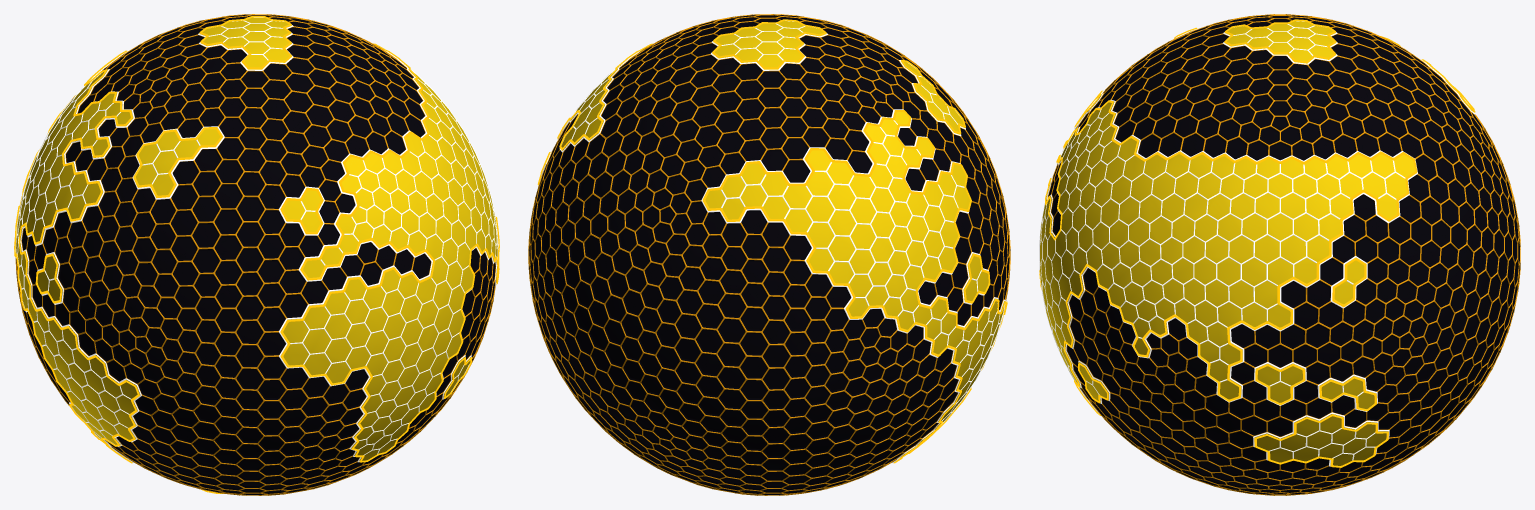
3 renders of one model, left to right at view 1: azimuth 30°, elevation 25°; view 2: azimuth 150°, elevation 25°; view 3: azimuth 270°, elevation 25°, orthographic.
Visible parts, largest first — view 1: Surface_Paint Metallic Orange peel Slate Grey_0, Continents Mesh-1_Paint Metallic Orange peel Slate Grey_0, Frame_Paint Metallic Orange peel Cool Grey_0; view 2: Surface_Paint Metallic Orange peel Slate Grey_0, Continents Mesh-1_Paint Metallic Orange peel Slate Grey_0, Frame_Paint Metallic Orange peel Cool Grey_0; view 3: Surface_Paint Metallic Orange peel Slate Grey_0, Continents Mesh-1_Paint Metallic Orange peel Slate Grey_0, Frame_Paint Metallic Orange peel Cool Grey_0.
Part boxes in pixels (x1,y1,x2,y2): Surface_Paint Metallic Orange peel Slate Grey_0: [15, 14, 497, 495]; Continents Mesh-1_Paint Metallic Orange peel Slate Grey_0: [15, 17, 498, 462]; Frame_Paint Metallic Orange peel Cool Grey_0: [14, 16, 499, 493]; Surface_Paint Metallic Orange peel Slate Grey_0: [528, 14, 1010, 495]; Continents Mesh-1_Paint Metallic Orange peel Slate Grey_0: [540, 20, 1006, 463]; Frame_Paint Metallic Orange peel Cool Grey_0: [537, 19, 1007, 463]; Surface_Paint Metallic Orange peel Slate Grey_0: [1040, 14, 1520, 495]; Continents Mesh-1_Paint Metallic Orange peel Slate Grey_0: [1039, 21, 1475, 466]; Frame_Paint Metallic Orange peel Cool Grey_0: [1039, 19, 1475, 467].
Size of the model in its own units: 1028 by 1023 by 1021.
Materials: 3 (3 with a texture image).
